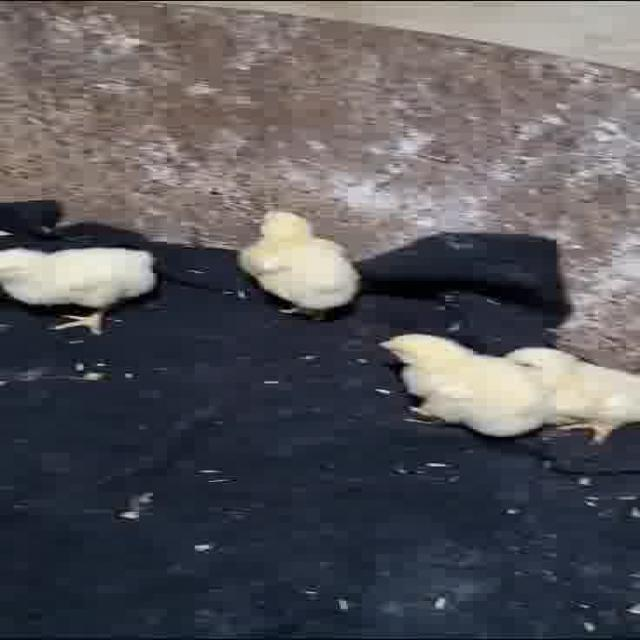poussin: (374, 330, 548, 438), (0, 232, 160, 339), (238, 200, 360, 320), (506, 338, 635, 438)
